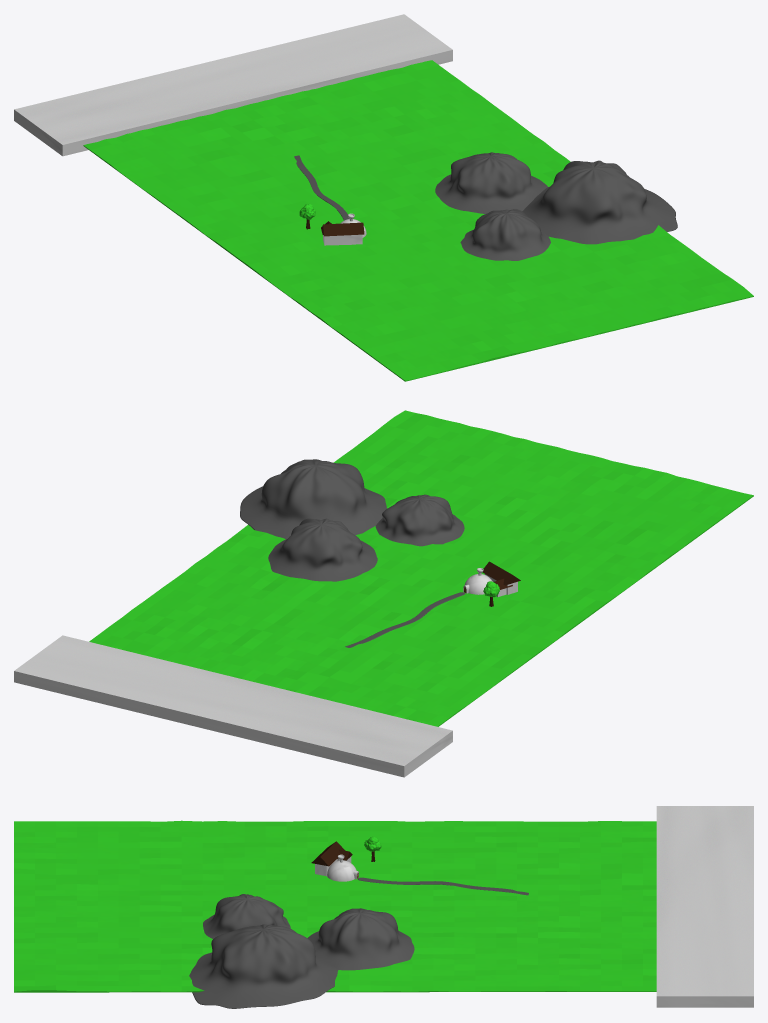
File: Stage.fbx
The picture shows the model from 3 angles, top to bottom: view 1: azimuth 30°, elevation 25°; view 2: azimuth 150°, elevation 25°; view 3: azimuth 270°, elevation 25°; orthographic projection.
Visible parts, largest first — view 1: Cube, Cube.007, Sphere.007, Sphere.005, Sphere.006; view 2: Cube, Cube.007, Sphere.007, Sphere.005, Sphere.006; view 3: Cube, Cube.007, Sphere.007, Sphere.005, Sphere.006, Cube.006, Sphere.004, Cube.003.
Part boxes in pixels (x1=…): Cube: x1=83, y1=60, x2=753, y2=381; Cube.007: x1=14, y1=14, x2=452, y2=156; Sphere.007: x1=522, y1=160, x2=677, y2=244; Sphere.005: x1=435, y1=152, x2=547, y2=213; Sphere.006: x1=460, y1=209, x2=550, y2=260; Cube: x1=89, y1=410, x2=753, y2=726; Cube.007: x1=14, y1=635, x2=452, y2=777; Sphere.007: x1=240, y1=459, x2=387, y2=539; Sphere.005: x1=268, y1=518, x2=377, y2=581; Sphere.006: x1=375, y1=494, x2=464, y2=546; Cube: x1=14, y1=820, x2=656, y2=992; Cube.007: x1=656, y1=806, x2=753, y2=1007; Sphere.007: x1=189, y1=924, x2=338, y2=1008; Sphere.005: x1=307, y1=908, x2=414, y2=970; Sphere.006: x1=203, y1=894, x2=290, y2=938; Cube.006: x1=358, y1=877, x2=528, y2=895; Sphere.004: x1=327, y1=860, x2=356, y2=881; Cube.003: x1=311, y1=841, x2=344, y2=866.
Size of the model in its own units: 7366 by 907 by 11790.
